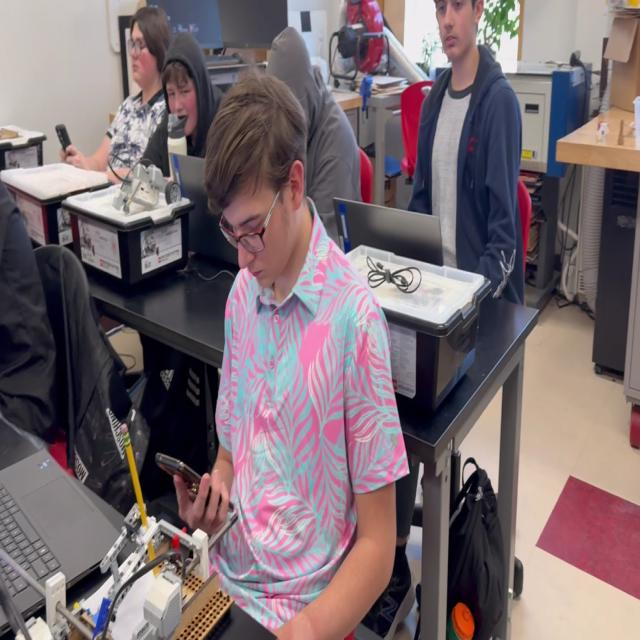pen: (154, 452, 234, 513), (55, 124, 76, 164)
